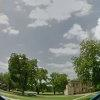Tree: (7, 42, 68, 98)
